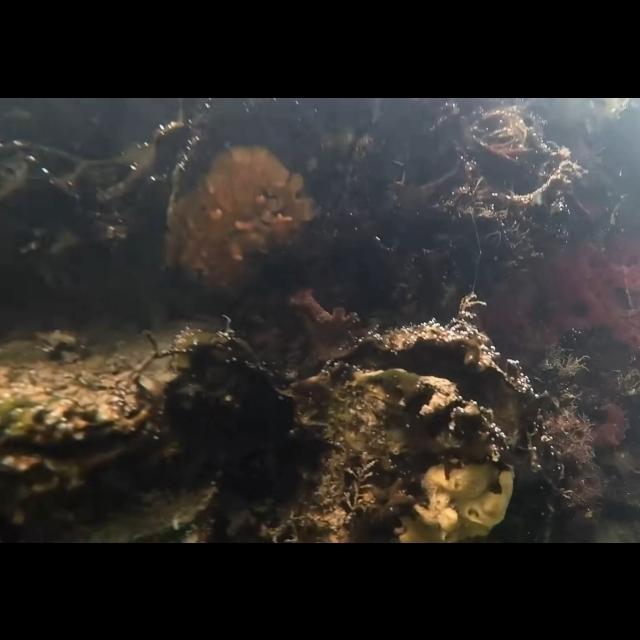Oyster-Closed: (162, 129, 322, 301)
Oyster-Open: (278, 322, 542, 542), (0, 317, 234, 491), (54, 471, 220, 542)
